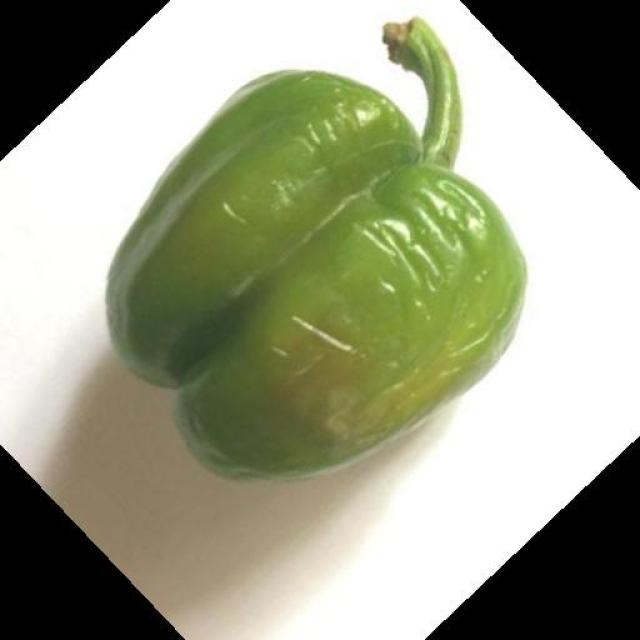Stale_Capsicum: (166, 218, 436, 494)
